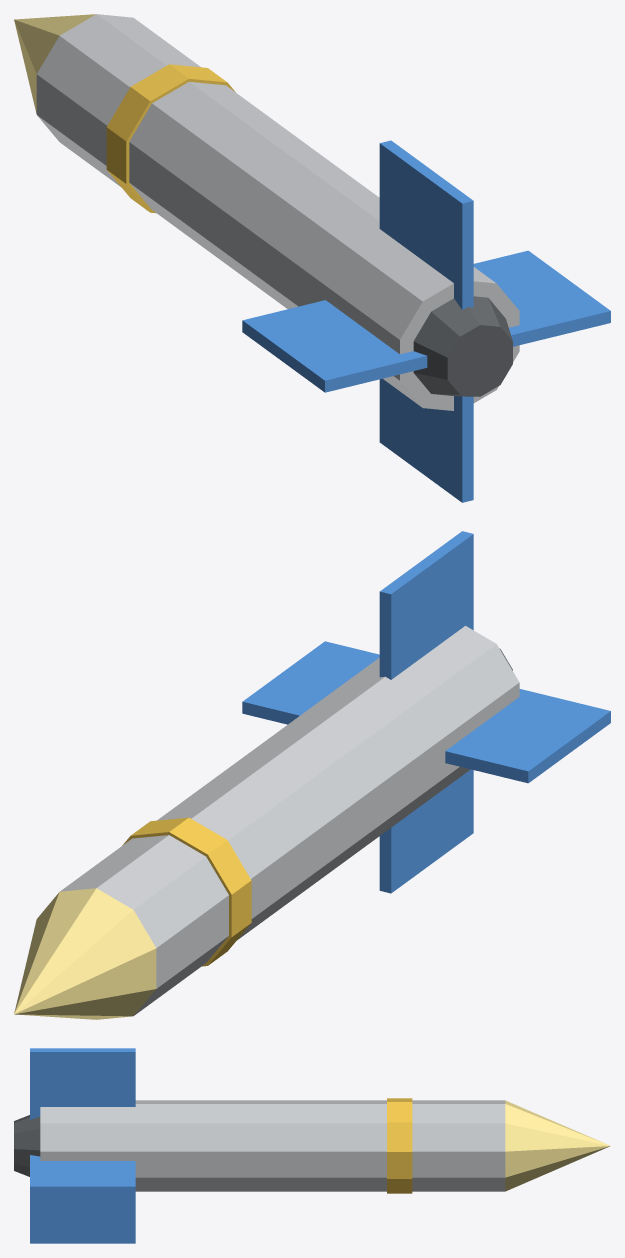
Rendered from Nuke.fbx.
3 renders of one model, top to bottom at view 1: azimuth 30°, elevation 25°; view 2: azimuth 150°, elevation 25°; view 3: azimuth 270°, elevation 25°, orthographic. The views are drawn at different scales.
Parts seen in each view (by area): view 1: Metal.006, Team.006, Dark.006, Hazard.005, Light.006; view 2: Metal.006, Team.006, Light.006, Hazard.005; view 3: Metal.006, Team.006, Light.006, Hazard.005, Dark.006.
Part boxes in pixels (x1,y1,x2,y2): Metal.006: [36, 14, 519, 410]; Team.006: [242, 140, 610, 502]; Dark.006: [413, 296, 512, 396]; Hazard.005: [106, 64, 235, 213]; Light.006: [14, 14, 95, 113]; Metal.006: [60, 626, 519, 1015]; Team.006: [242, 531, 610, 893]; Light.006: [14, 888, 156, 1019]; Hazard.005: [122, 817, 251, 966]; Metal.006: [40, 1100, 505, 1191]; Team.006: [30, 1048, 135, 1243]; Light.006: [505, 1100, 610, 1191]; Hazard.005: [387, 1098, 412, 1193]; Dark.006: [14, 1115, 40, 1176].
Size of the model in its own units: 100 by 100 by 282.
